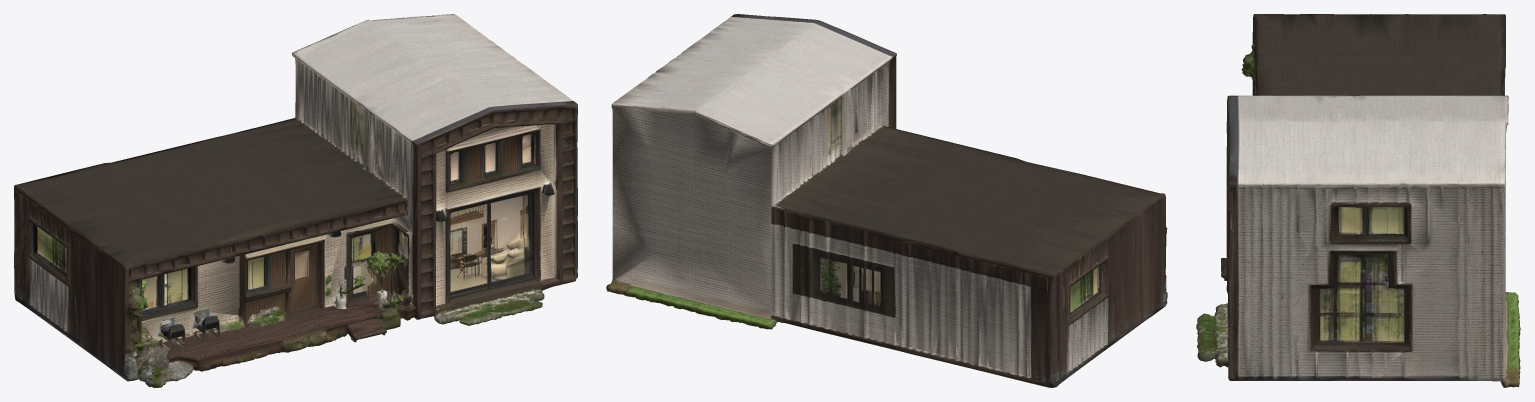
The model's file is stay18-b.glb.
The picture shows the model from 3 angles, left to right: view 1: azimuth 30°, elevation 25°; view 2: azimuth 150°, elevation 25°; view 3: azimuth 270°, elevation 25°; orthographic projection. The views are drawn at different scales.
Parts seen in each view (by area): view 1: Mesh_0; view 2: Mesh_0; view 3: Mesh_0.
Boxes of the visible parts, <box> form: Mesh_0: <box>14,14,577,387</box>; Mesh_0: <box>606,14,1167,387</box>; Mesh_0: <box>1196,14,1520,387</box>.
Size of the model in its own units: 1.9 by 0.81 by 1.07.
1 material, 1 textured.
